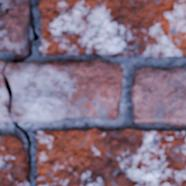brick: (36, 129, 185, 185), (39, 0, 185, 56), (132, 68, 185, 126), (0, 0, 29, 52), (0, 135, 29, 185)
broken_brick: (5, 59, 123, 124), (0, 75, 10, 123), (0, 59, 5, 68)
crack: (0, 2, 40, 183)
